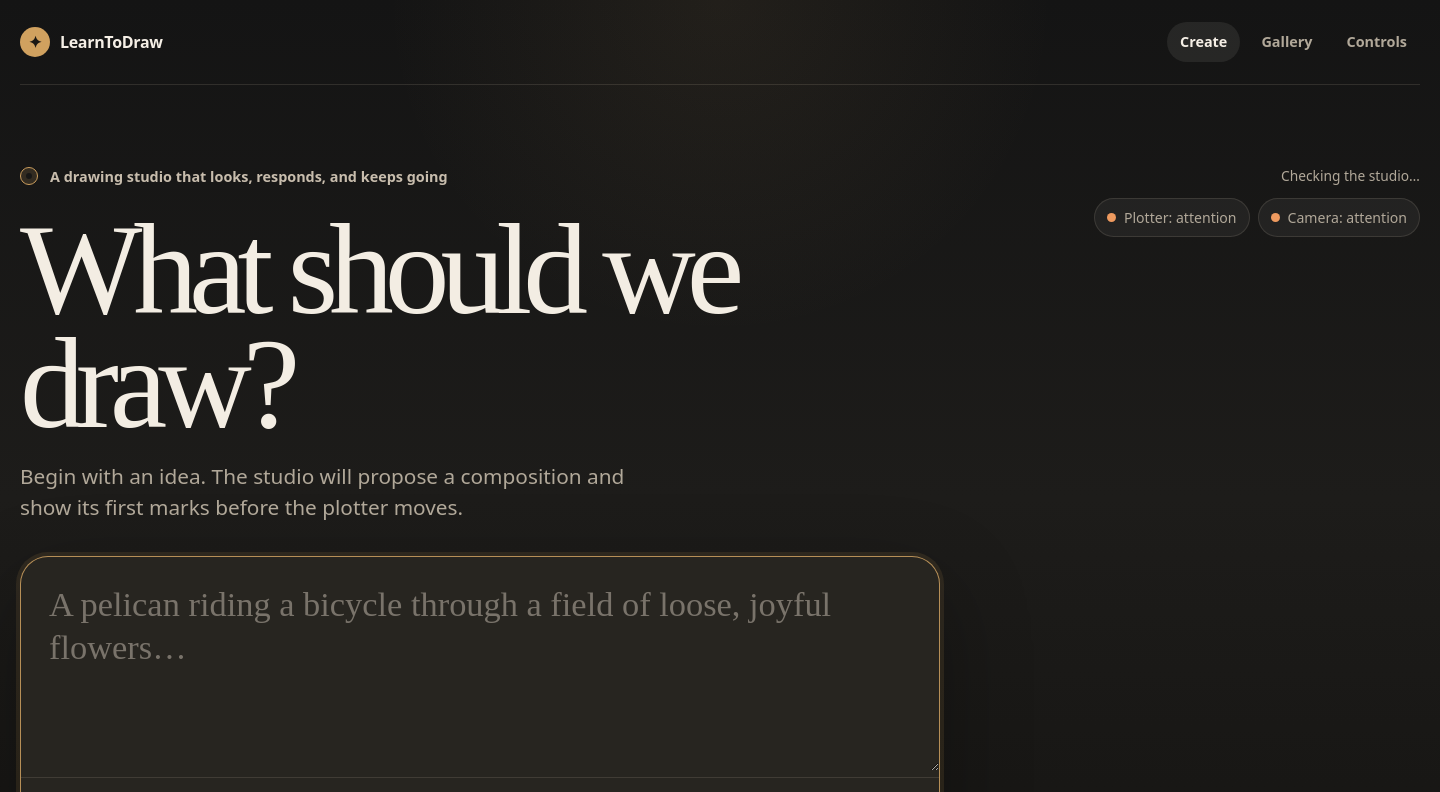
Test: starts with creative intent and creates a prompt-only planning session
Expected: the heading "What should we draw?" is shown, top-left (20, 198), bottom-right (735, 455)
Replace the text in the text box named "drawing idea" with "A field of unruly flowers" at (480, 664), box top-left (21, 557), bottom-right (939, 771)
(page scrolled)
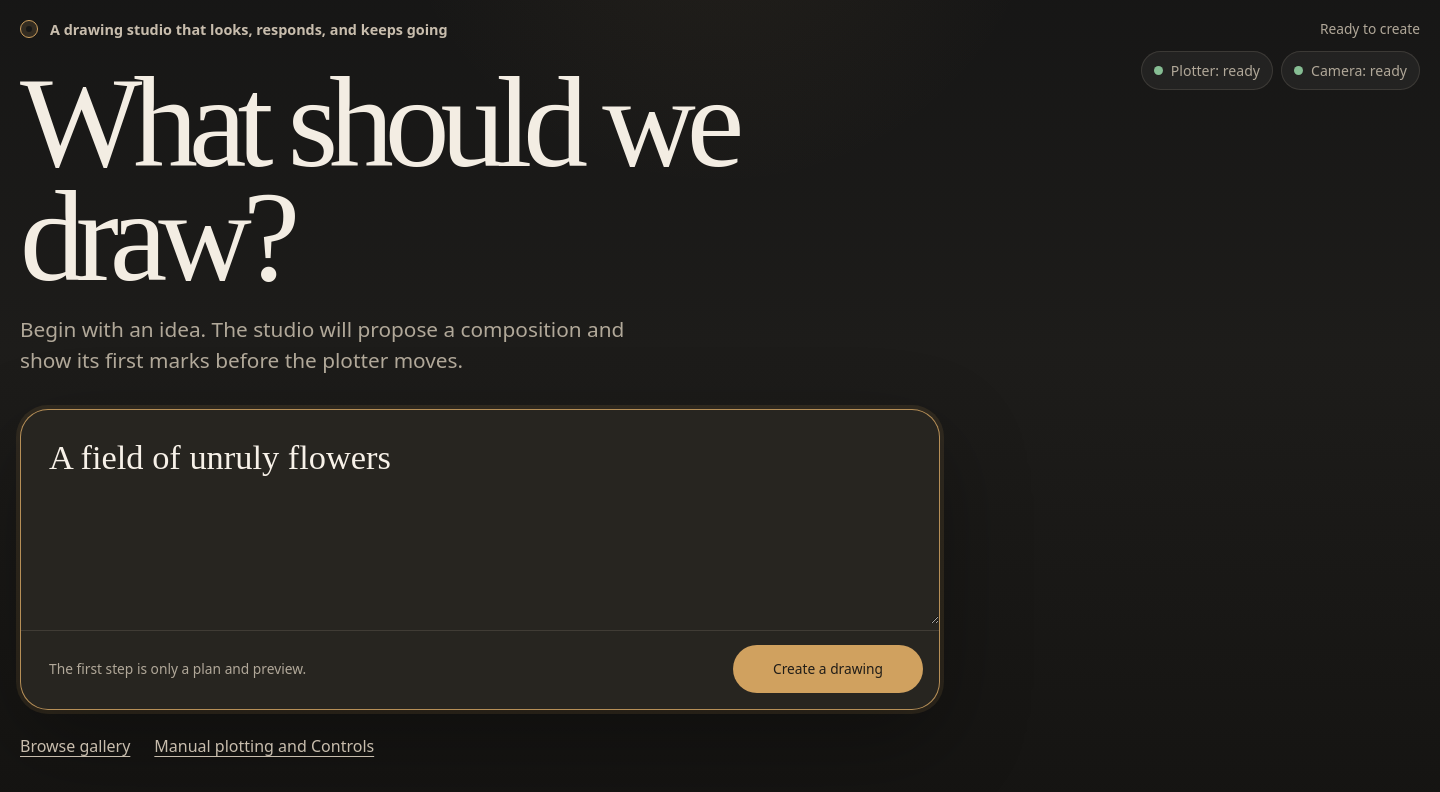
Expected: the button "Create a drawing" is enabled
Click the button "Create a drawing" at (828, 669), box top-left (733, 645), bottom-right (923, 693)
(page scrolled)
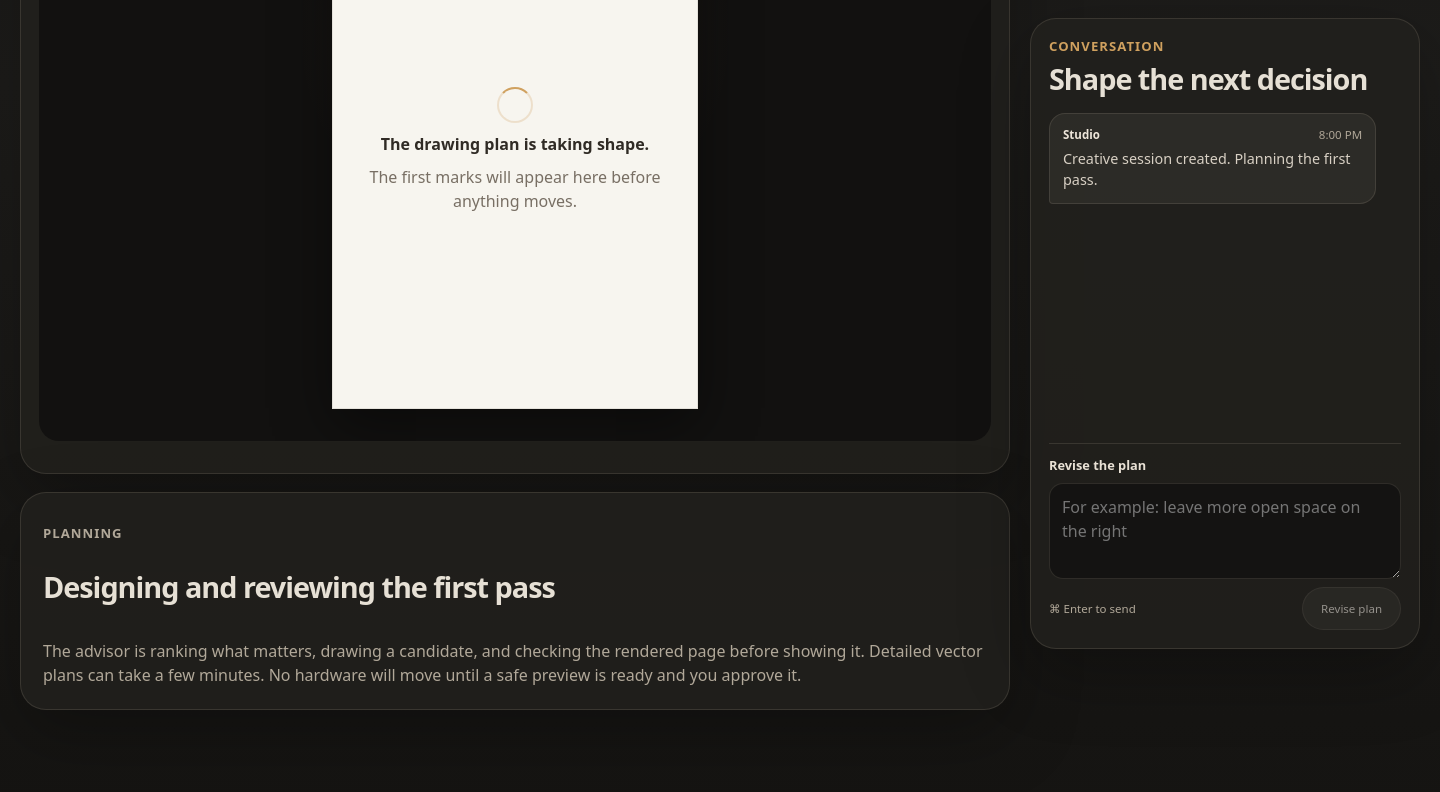
Expected: the heading "Designing and reviewing the first pass" is shown, top-left (43, 567), bottom-right (555, 606)
